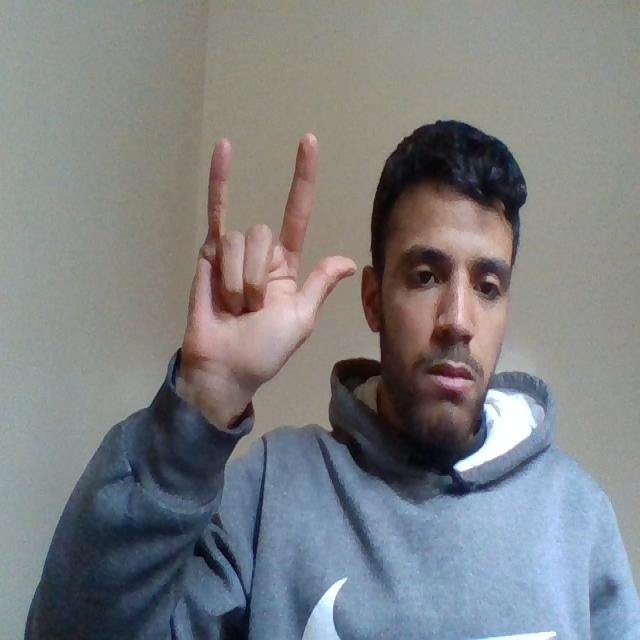I Love You: (173, 131, 360, 401)
